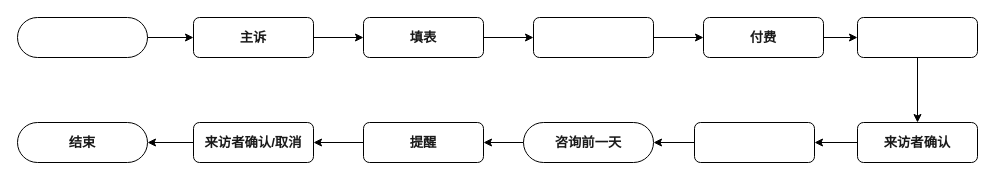
The diagram is 995 pixels wide and 180 high, and some of its shapes have lost their labels. The shapes that lost their labels are listed below. From the top down, each one's centre as x and y in pixels, then its label:
At (x=82, y=37): "开始接待".
At (x=593, y=37): "预约时间".
At (x=917, y=37): "发送设置".
At (x=754, y=142): "发详细地址".
